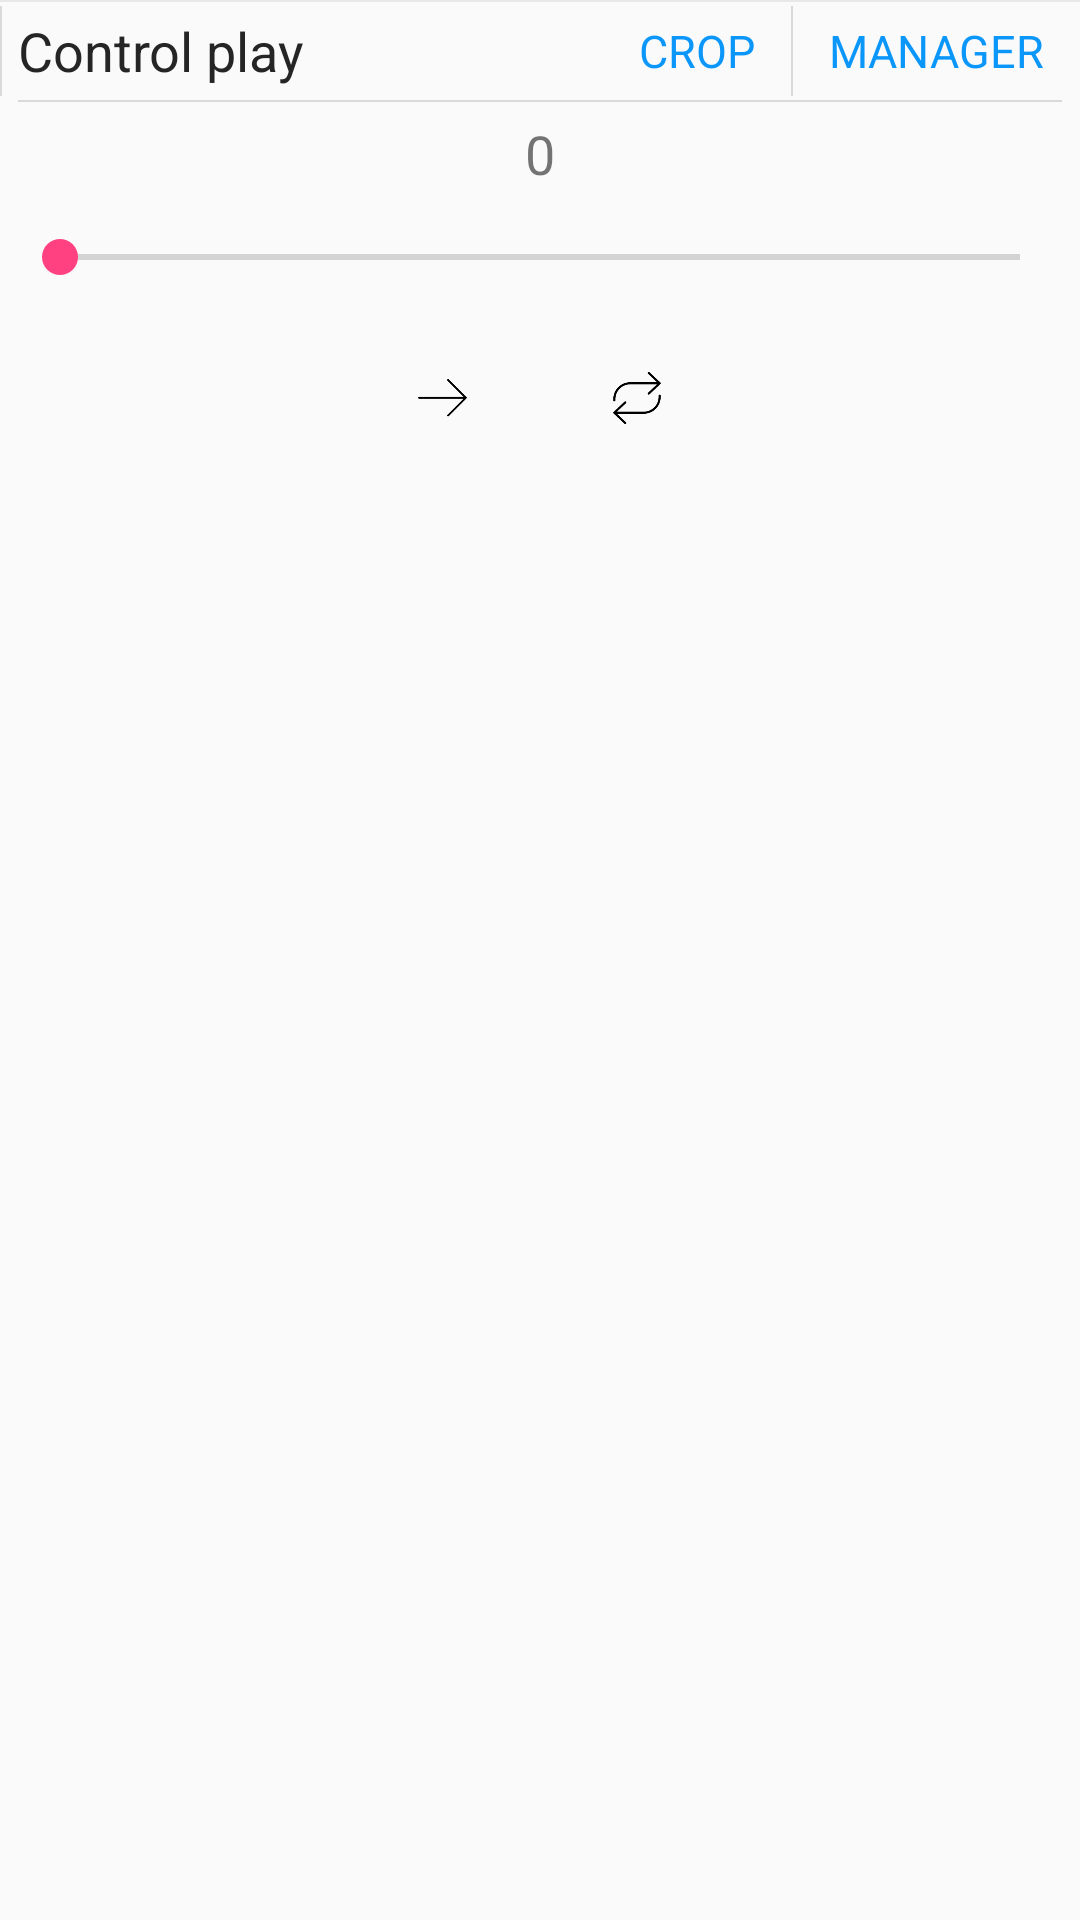

Named icons in this screenshot (1080 x 1920) and their centers, (x=x, y=y):
forward: (x=442, y=398)
repeat: (x=637, y=398)
